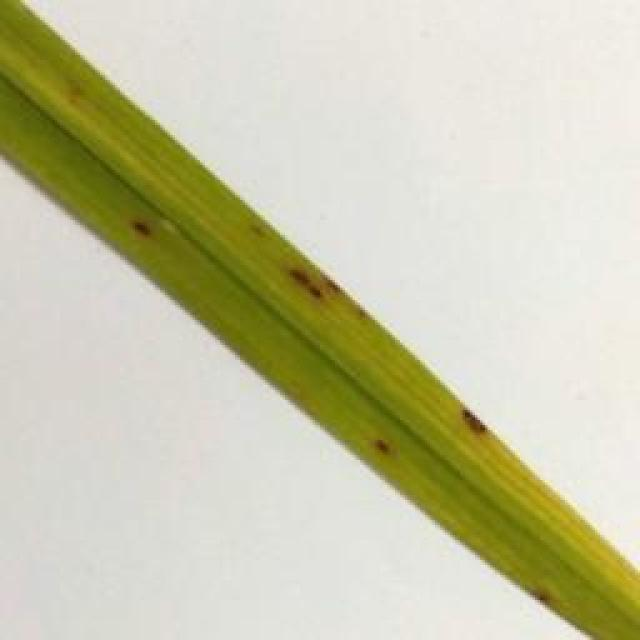Unhealthy: (289, 265, 340, 301), (461, 404, 489, 433), (130, 214, 153, 240), (532, 587, 555, 606), (373, 436, 392, 455), (357, 308, 368, 321)
